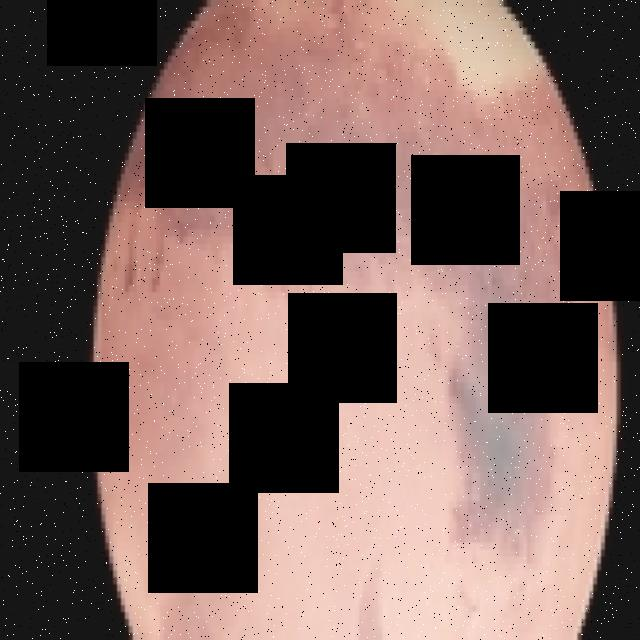Mars: (94, 0, 620, 640)
